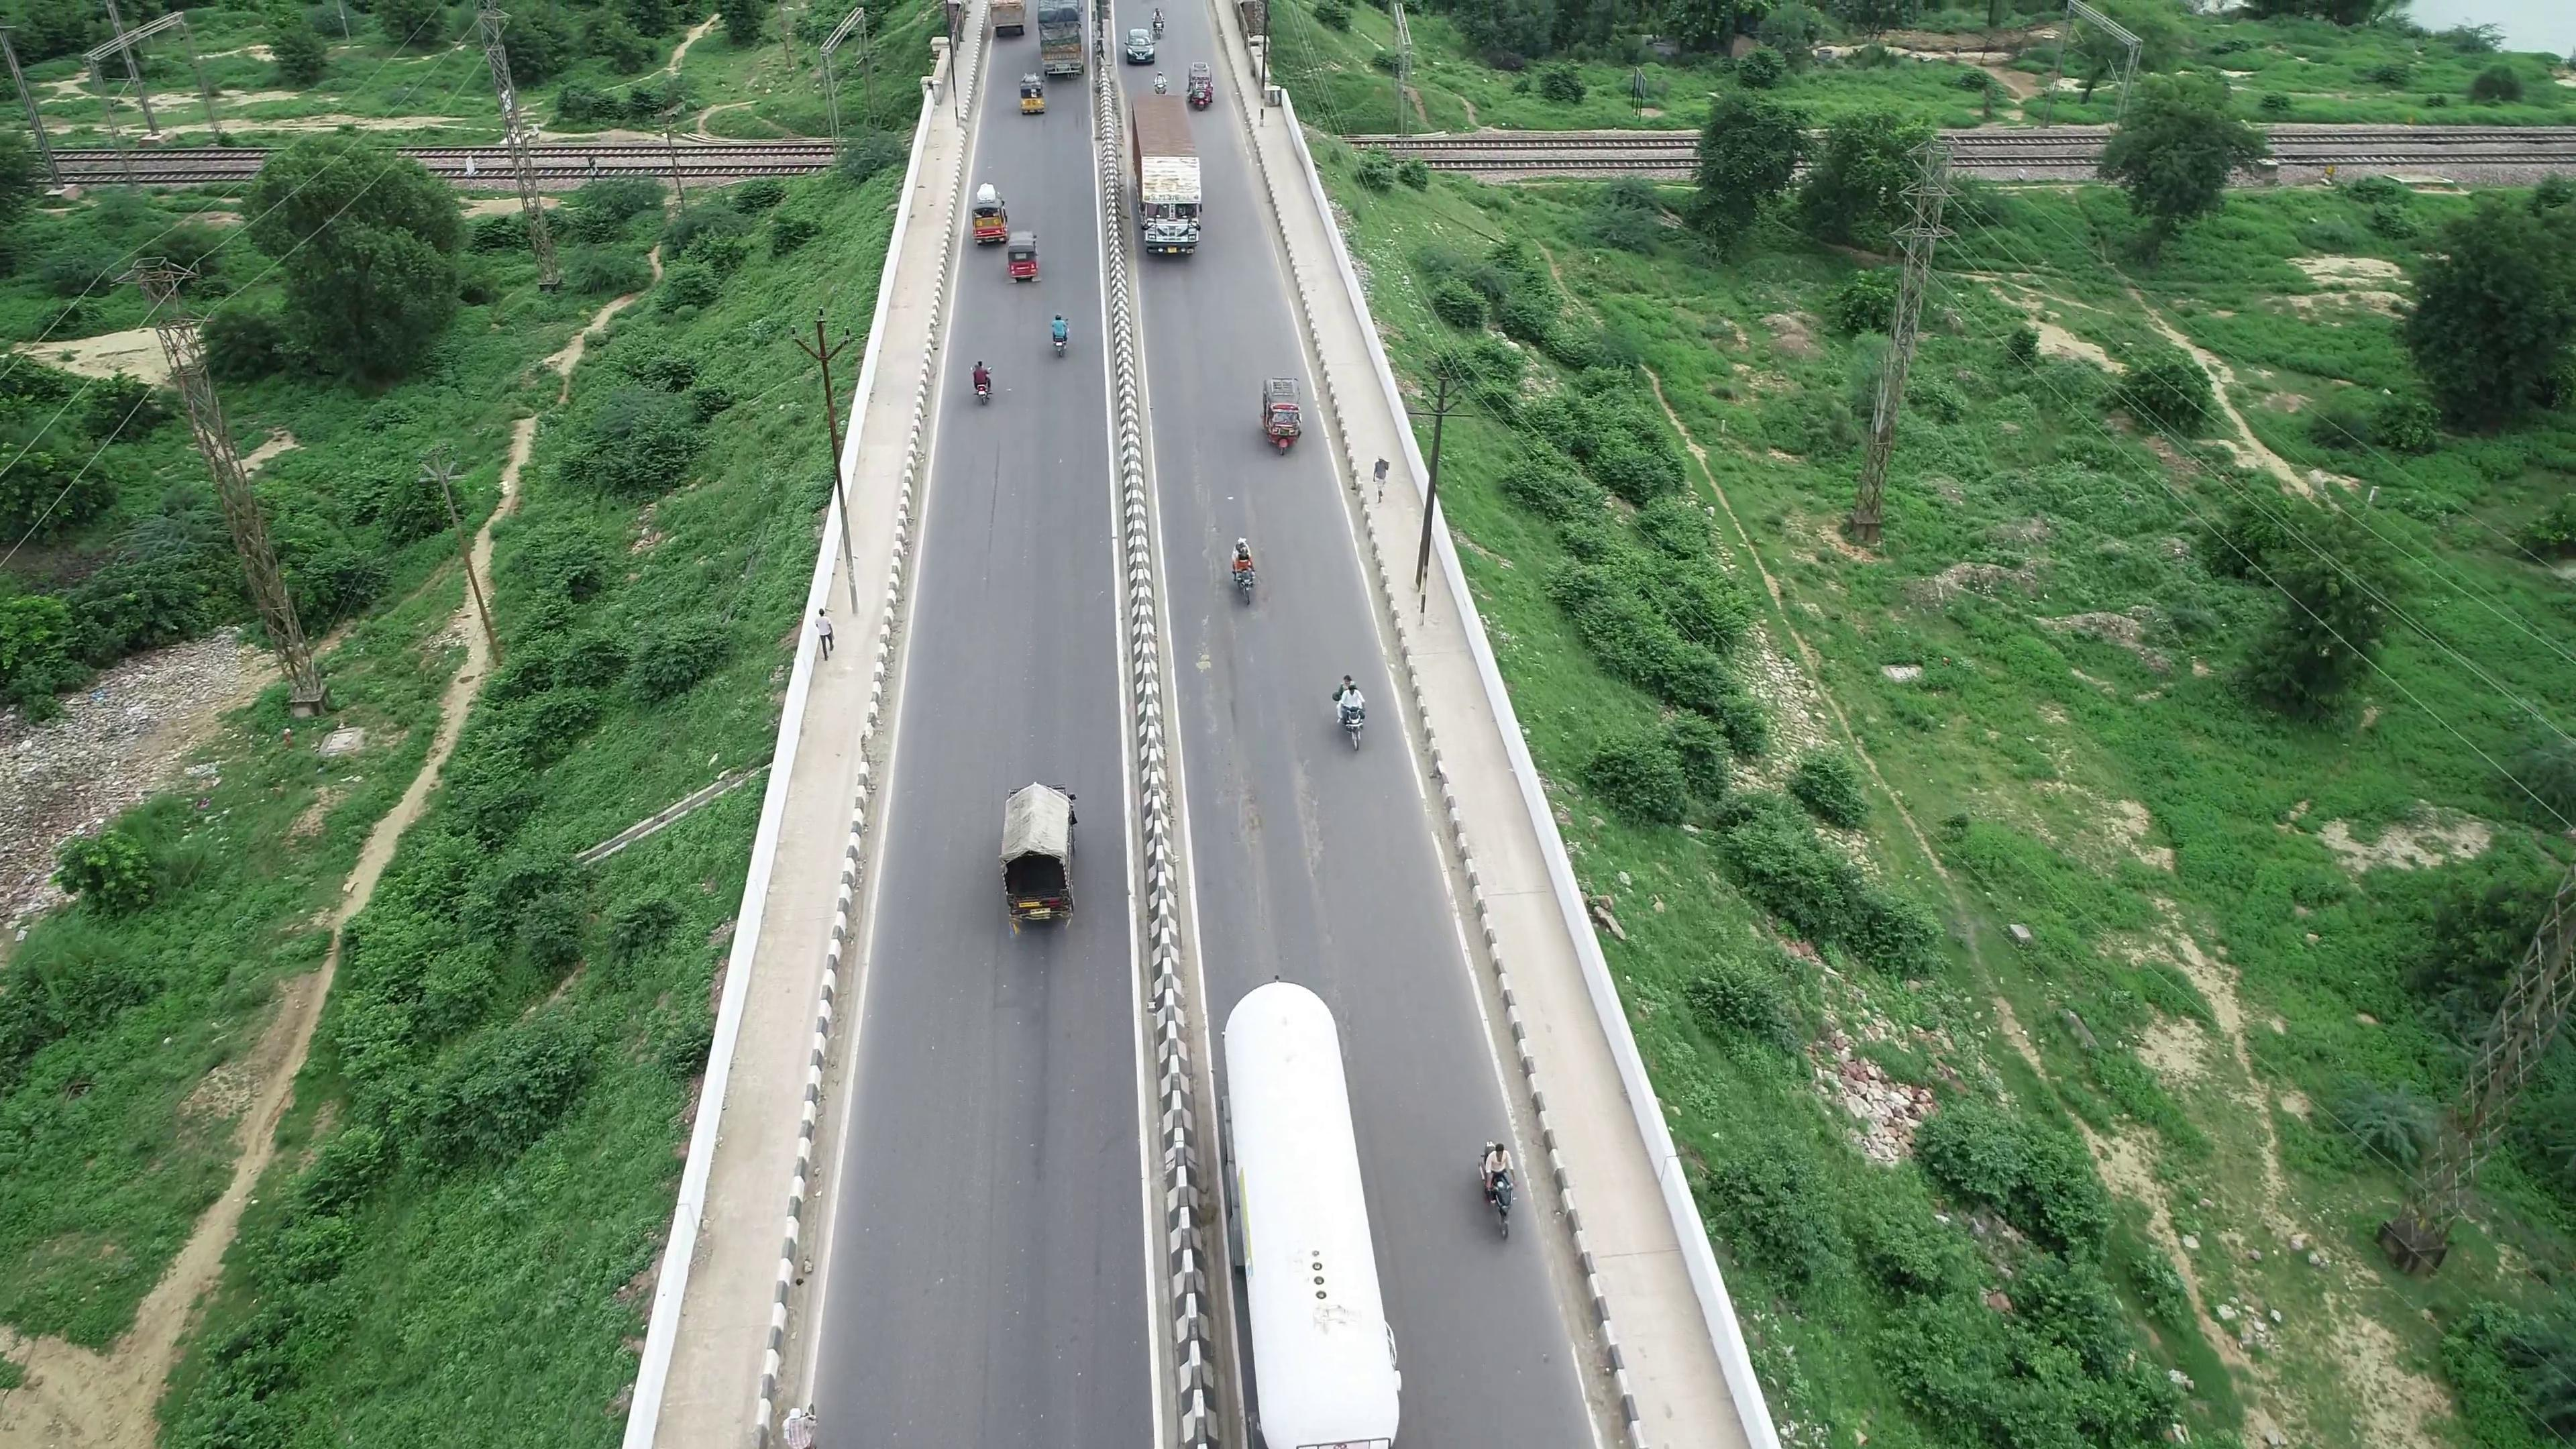Potholes: (1187, 644, 1221, 692)
Ravelling: (1189, 428, 1226, 605), (1297, 747, 1330, 890)
